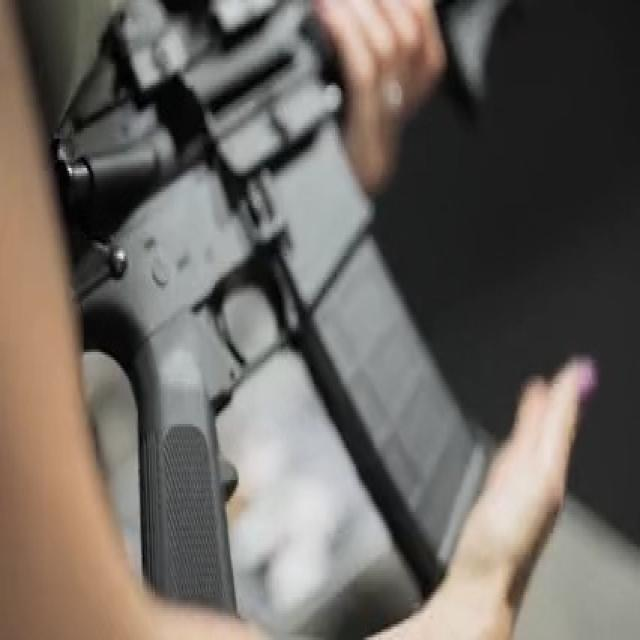Gun_Holder: (33, 16, 605, 608)
